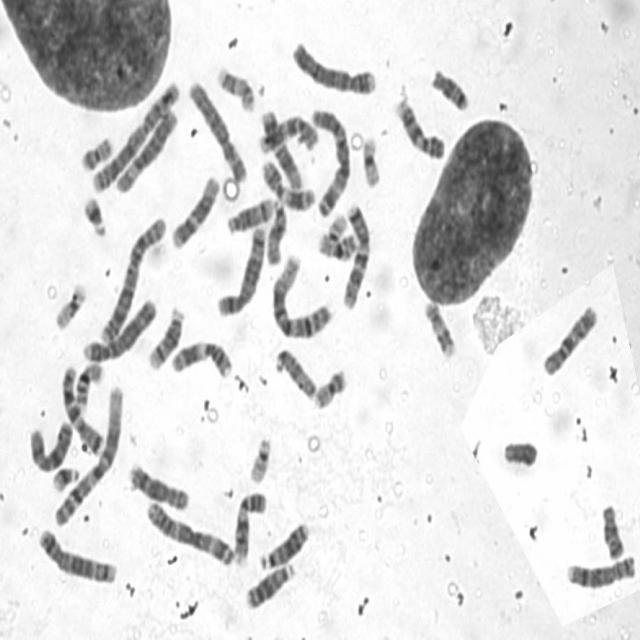A1: (49, 378, 126, 529), (268, 248, 335, 341)
A2: (88, 76, 180, 195), (96, 210, 168, 348)
A3: (143, 494, 238, 568), (307, 102, 352, 218)
B4: (79, 292, 159, 364), (288, 35, 378, 96)
B5: (213, 219, 268, 318), (35, 522, 118, 586)
C10: (538, 298, 600, 378), (257, 109, 320, 154)
C11: (258, 153, 316, 212), (167, 334, 234, 379)
C12: (168, 169, 222, 251), (258, 104, 304, 191)
C6: (186, 74, 250, 185), (113, 101, 180, 196)
C7: (57, 358, 106, 456), (339, 198, 374, 310)
C8: (125, 458, 192, 512), (564, 548, 638, 590)
C9: (391, 92, 447, 161), (230, 485, 268, 566)
D13: (258, 516, 312, 572), (242, 558, 297, 610)
D14: (145, 301, 187, 371), (224, 191, 277, 235)
D15: (271, 342, 318, 401), (264, 192, 289, 266)
E16: (72, 356, 105, 410), (314, 226, 360, 262)
E17: (421, 295, 458, 360), (214, 59, 257, 114)
E18: (428, 61, 472, 113), (598, 497, 627, 561)
F19: (51, 276, 88, 332), (358, 130, 383, 189)
F20: (310, 361, 350, 411), (78, 130, 115, 173)
G21: (79, 189, 110, 239), (49, 459, 81, 494)
G22: (246, 431, 274, 485), (321, 207, 349, 245)
X: (25, 412, 76, 474)
Y: (499, 433, 540, 469)
